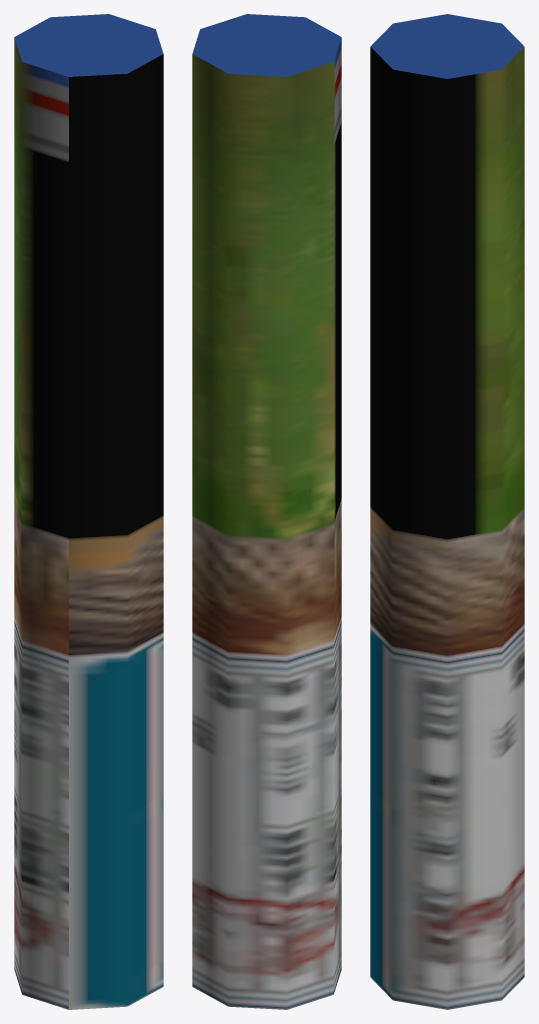
3 renders of one model, left to right at view 1: azimuth 30°, elevation 25°; view 2: azimuth 150°, elevation 25°; view 3: azimuth 270°, elevation 25°, orthographic.
Parts seen in each view (by area): view 1: Joint_0_Object_0; view 2: Joint_0_Object_0; view 3: Joint_0_Object_0.
Boxes of the visible parts, <box> form: Joint_0_Object_0: <box>14,14,163,1009</box>; Joint_0_Object_0: <box>192,14,341,1009</box>; Joint_0_Object_0: <box>370,14,524,1009</box>.
Bounding box in the file's own units: 60 × 400 × 60.
